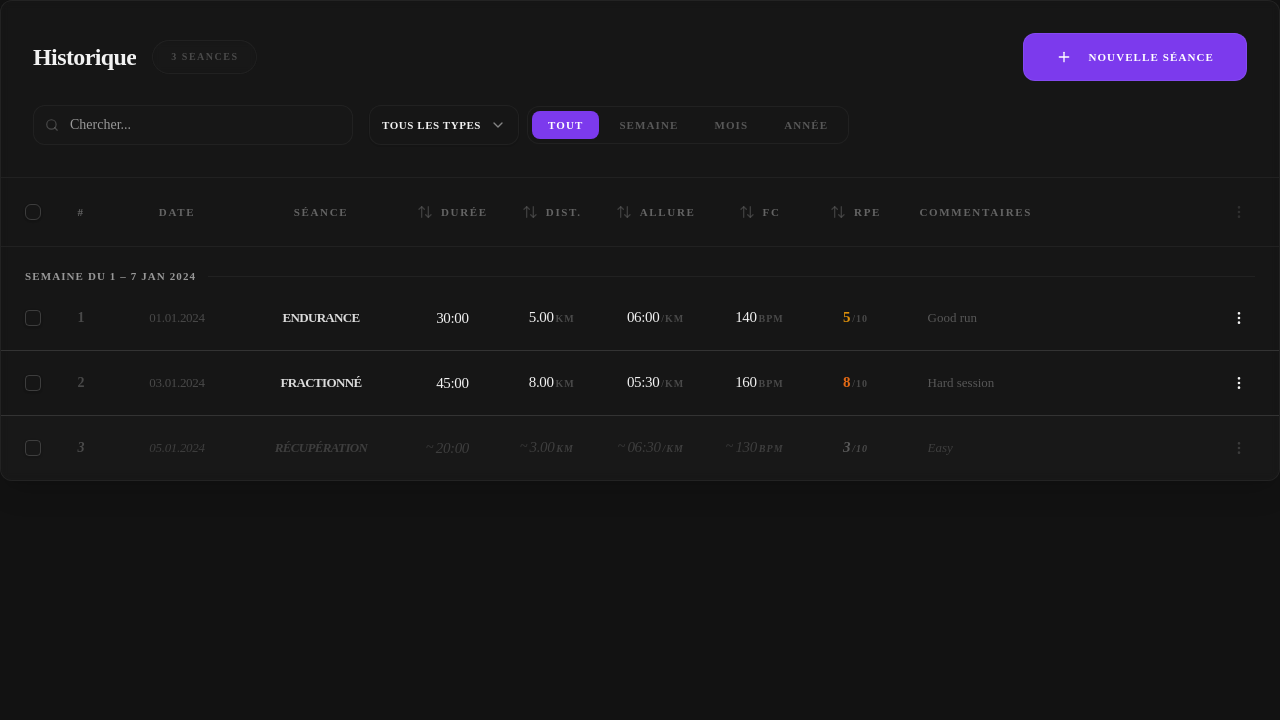
Test: SessionsTable › should clear selection when cancel button is clicked
The width and height of the screenshot is (1280, 720).
Click the checkbox named "sélectionner toutes les séances" at (33, 212), box [25, 204, 41, 220]
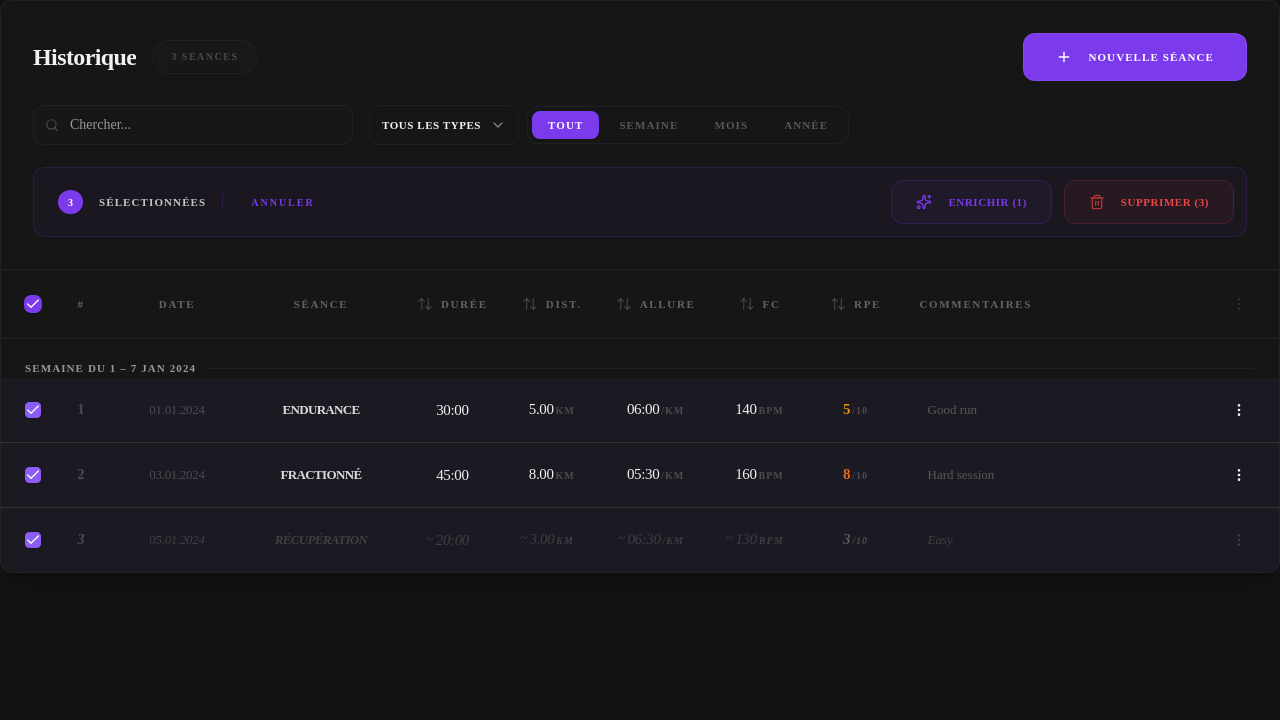
Expected: the text with test id "selection-count" reads "3", [68, 196, 73, 208]
Click the button "Annuler" at (283, 202), box [239, 186, 327, 218]
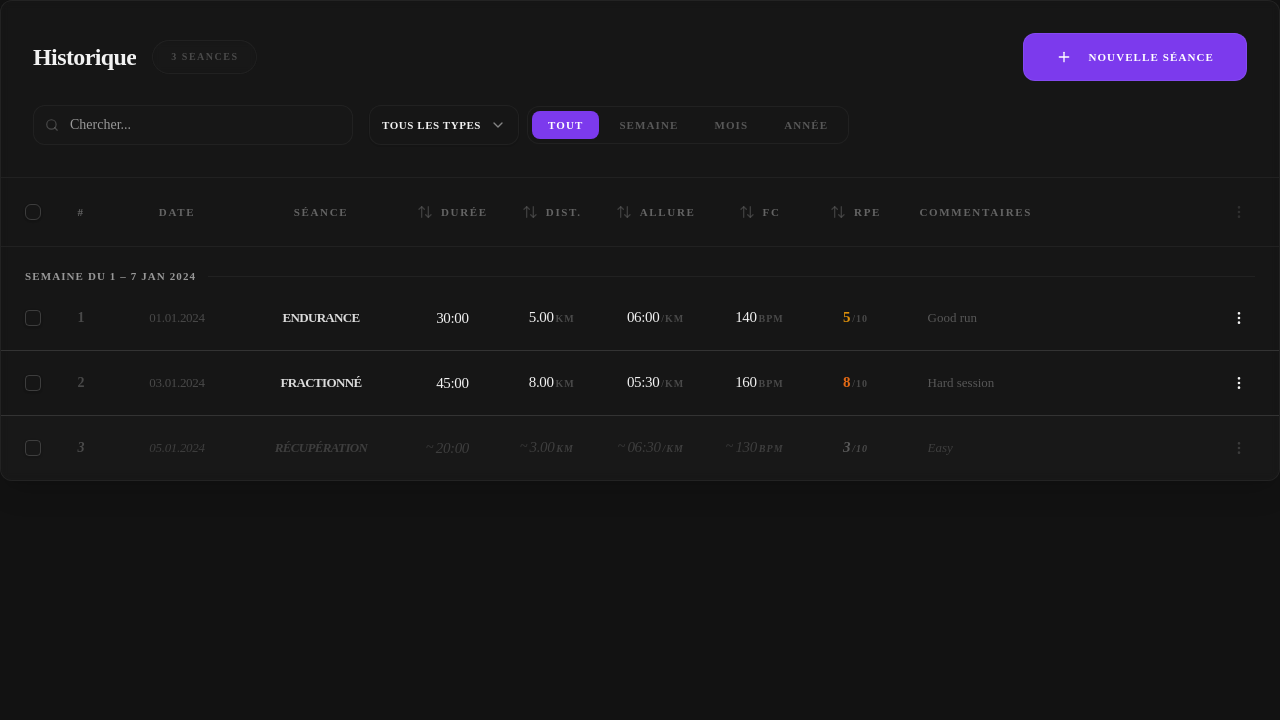
Expected: the text with test id "selection-count" is gone
